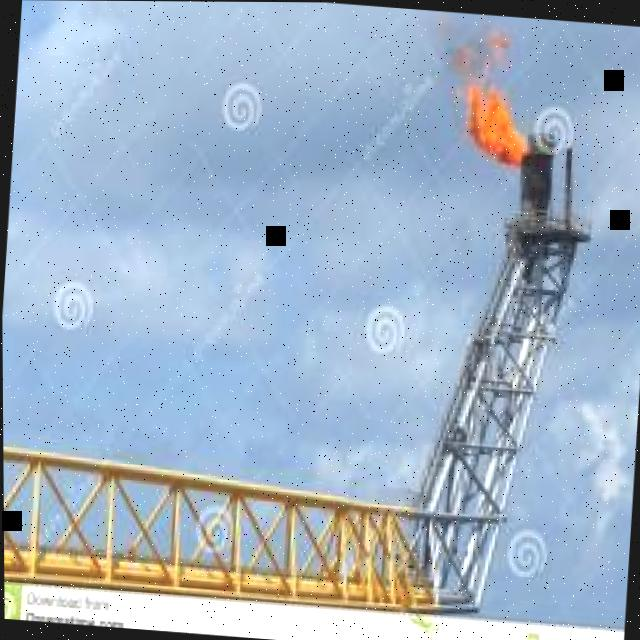fire: (455, 82, 530, 168), (486, 30, 509, 64), (458, 48, 474, 64), (464, 67, 475, 79), (482, 67, 487, 81)
smoke: (439, 38, 489, 68)
